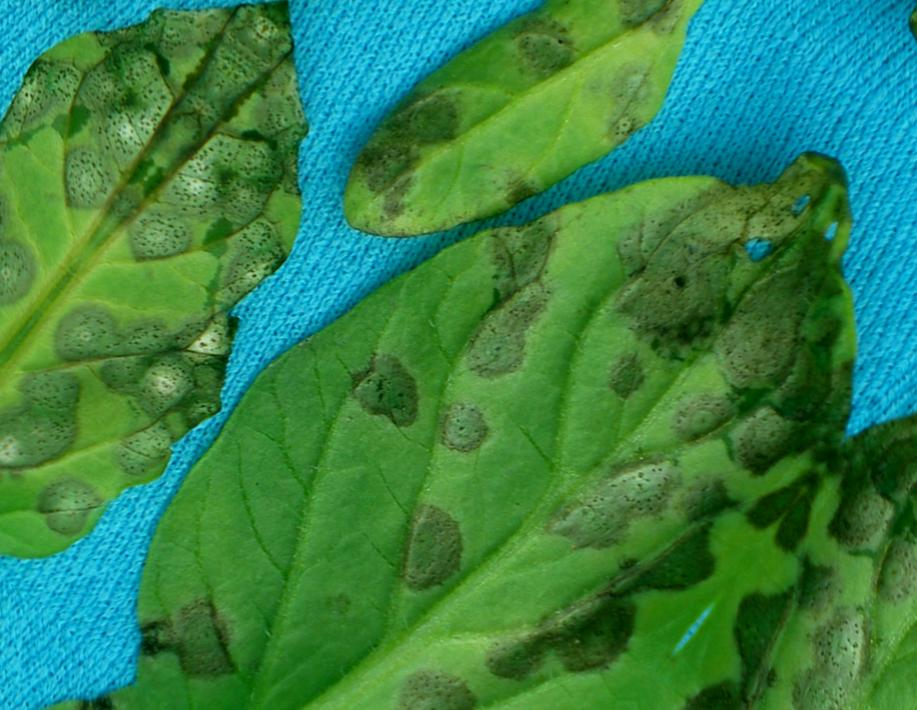Tomato Septoria leaf spot: (56, 0, 917, 710), (0, 0, 462, 620), (306, 0, 741, 345), (289, 0, 624, 123)
